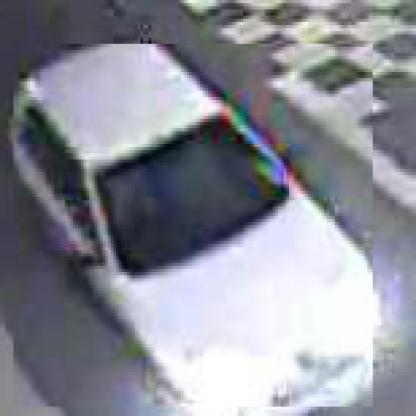car: (12, 45, 374, 411)
